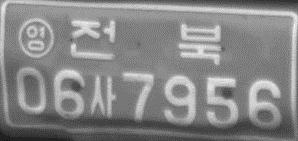0: (15, 65, 47, 115)
5: (205, 76, 238, 130)
6: (247, 79, 283, 133), (52, 67, 86, 120)
7: (121, 71, 154, 120)
9: (162, 74, 197, 126)
사: (90, 75, 116, 119)
영: (18, 16, 54, 59)
전북_D: (69, 19, 223, 65)
